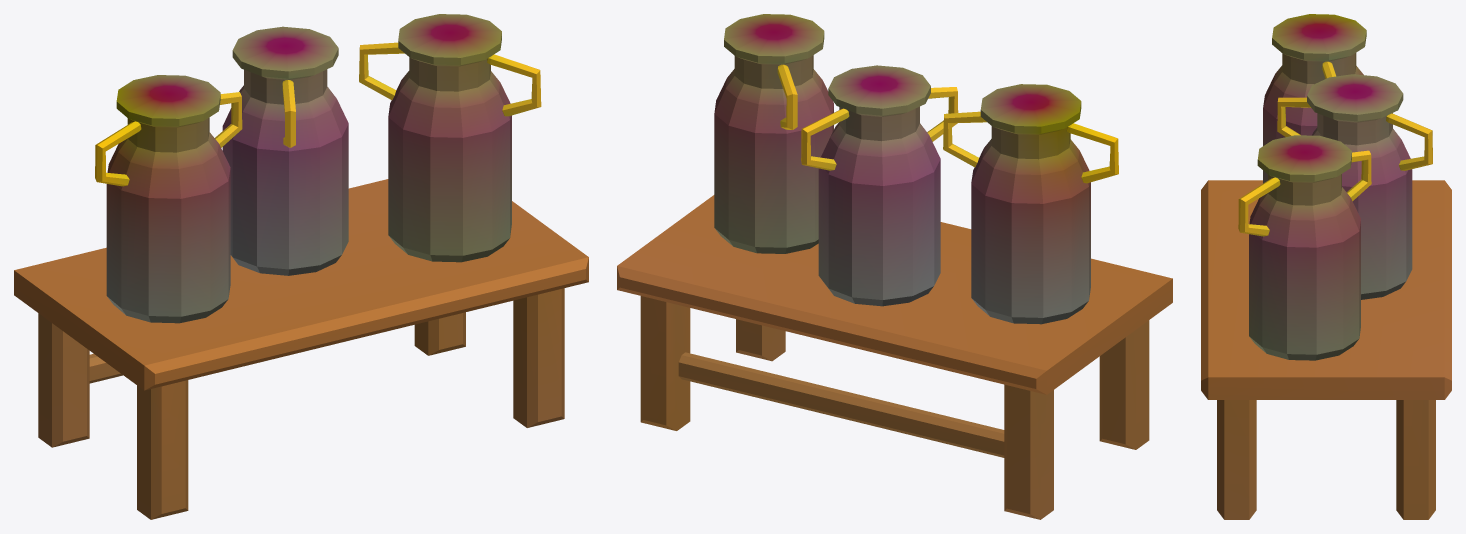
File: Farm_MilkStand.glb
3 renders of one model, left to right at view 1: azimuth 30°, elevation 25°; view 2: azimuth 150°, elevation 25°; view 3: azimuth 270°, elevation 25°, orthographic. The views are drawn at different scales.
Visible parts, largest first — view 1: Farm_MilkStand; view 2: Farm_MilkStand; view 3: Farm_MilkStand.
Boxes of the visible parts, x1,y1,x2,y2 form: Farm_MilkStand: [14, 14, 588, 519]; Farm_MilkStand: [617, 14, 1172, 519]; Farm_MilkStand: [1201, 14, 1451, 519].
Size of the model in its own units: 1.3 by 1.04 by 0.7.
